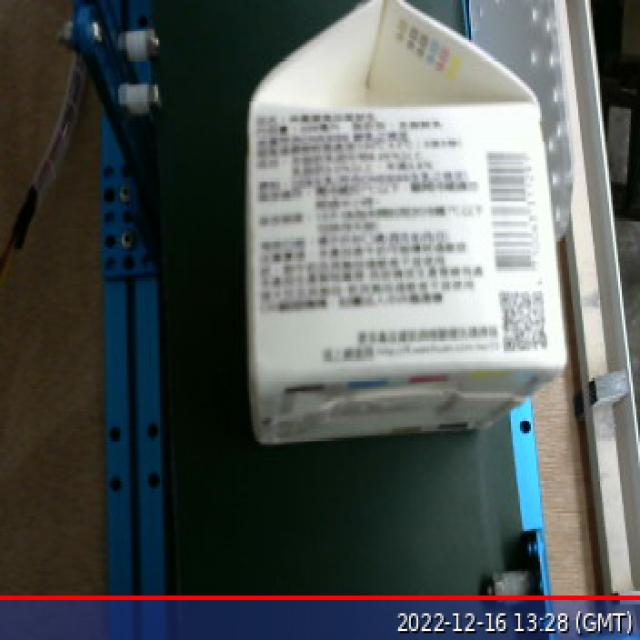non_white_jug: (238, 0, 577, 454)
